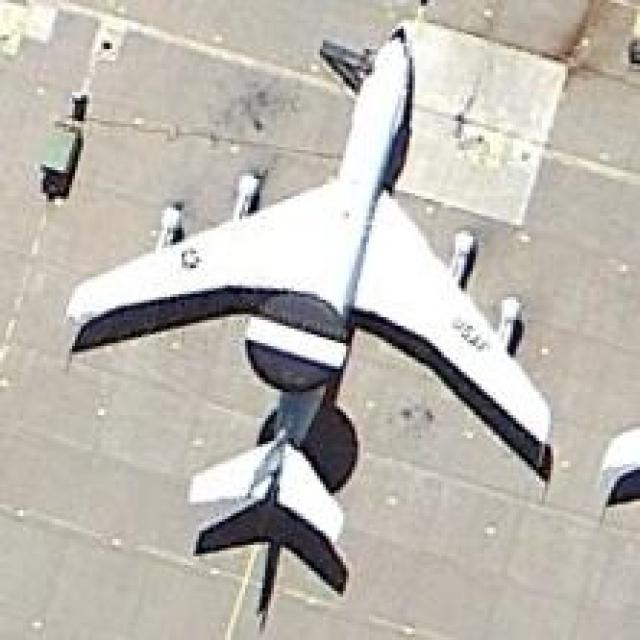E-3_TopDown: (58, 9, 559, 628)
